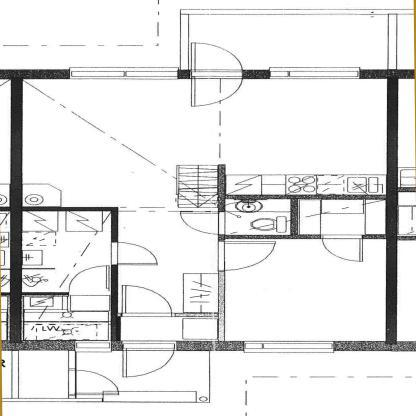bathroom: (221, 198, 297, 239)
door: (185, 40, 252, 110), (180, 39, 249, 80), (119, 338, 180, 379), (213, 239, 284, 273), (117, 282, 179, 318), (187, 73, 250, 108), (63, 368, 122, 401), (312, 232, 370, 265), (103, 241, 162, 269), (171, 211, 222, 236)
perimeter: (10, 73, 398, 349)
window: (265, 64, 370, 88), (62, 64, 186, 84), (238, 336, 346, 354), (63, 336, 114, 354)
